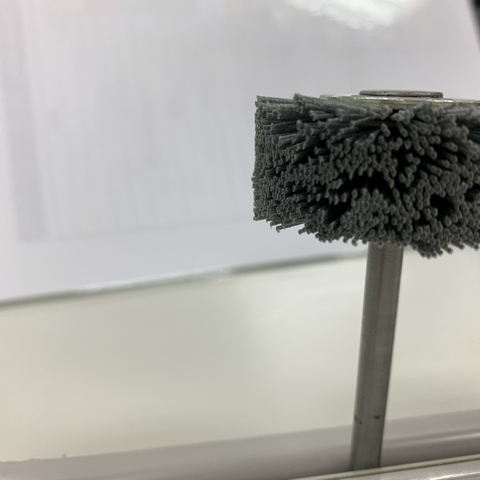Wheel Brush: (249, 78, 480, 455), (227, 65, 479, 356)
